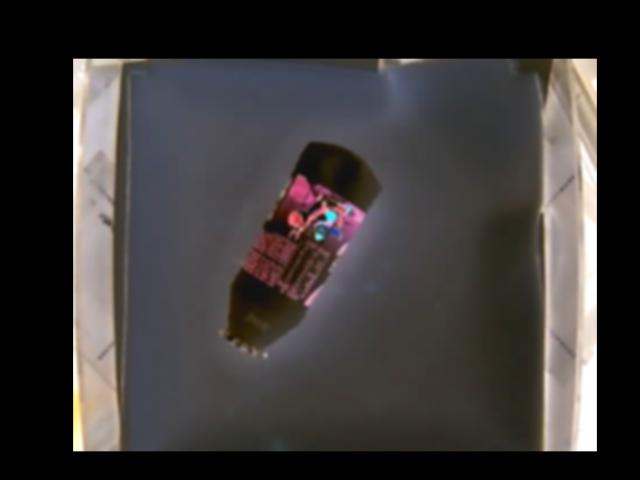Bottle: (219, 136, 383, 354)
